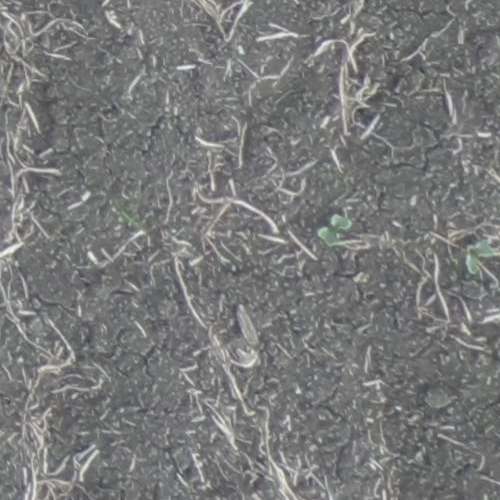plant: (316, 214, 352, 247), (463, 239, 495, 276)
